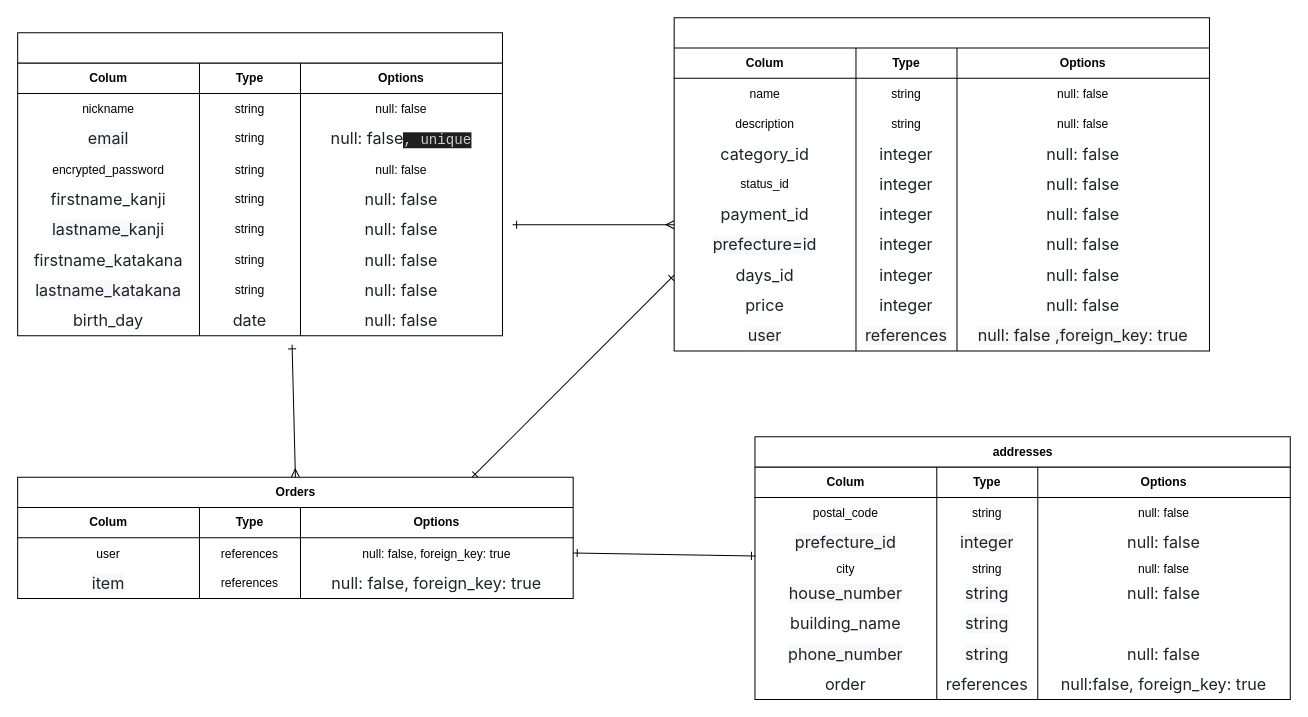
The diagram is 1308 pixels wide and 717 high, and some of its shapes have lost their labels. The shapes that lost their labels are listed below. From the top down, each one's box as (x1, y1, x2, y2) in pixels, then its label:
(17, 32, 502, 336): Users
(673, 17, 1209, 351): Items
